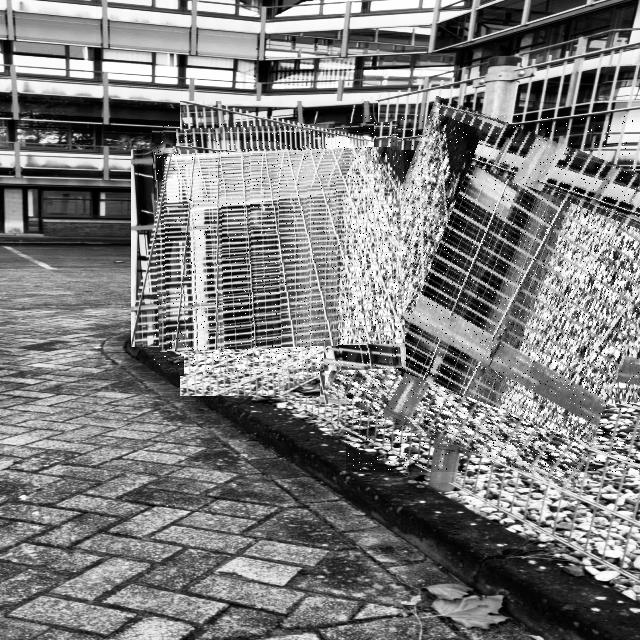fences: (346, 115, 640, 472), (154, 123, 404, 374)
